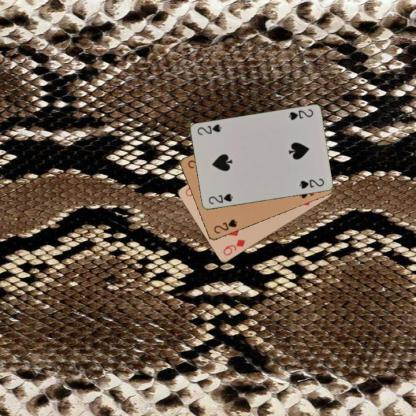2s: (211, 217, 238, 235), (206, 191, 234, 206), (286, 107, 314, 122)
9d: (220, 237, 247, 257)
